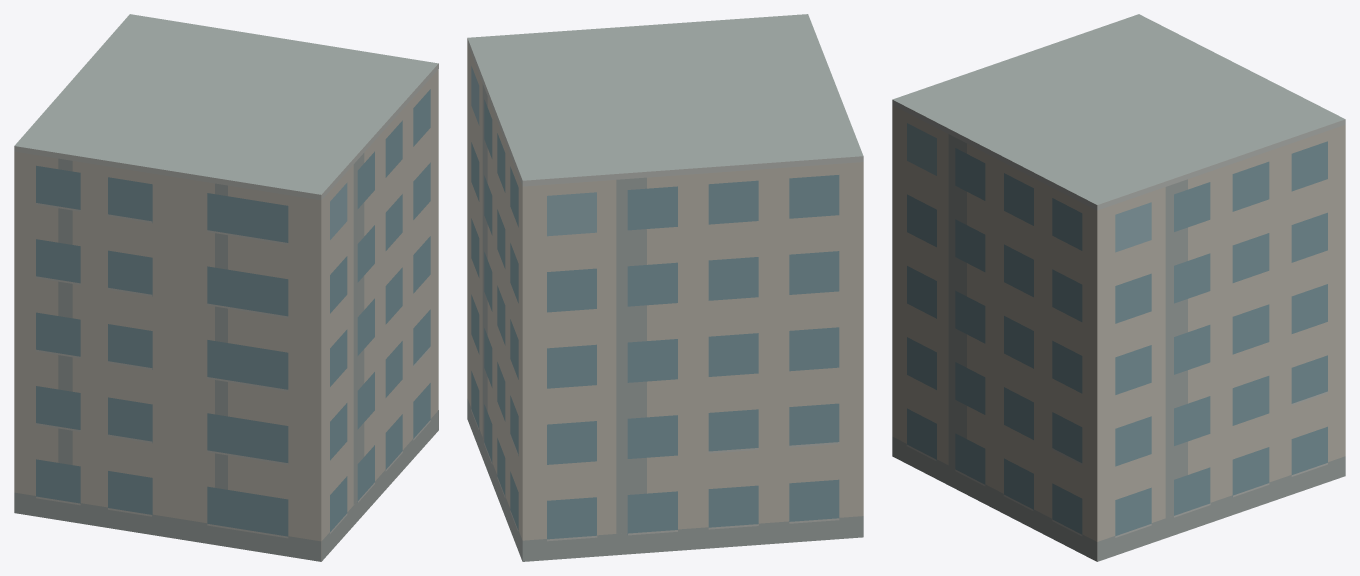
The model's file is survey-upis-33009966.glb.
3 renders of one model, left to right at view 1: azimuth 30°, elevation 25°; view 2: azimuth 150°, elevation 25°; view 3: azimuth 270°, elevation 25°, orthographic. The views are drawn at different scales.
Parts seen in each view (by area): view 1: survey-upis-33009966.tmp; view 2: survey-upis-33009966.tmp; view 3: survey-upis-33009966.tmp.
Boxes of the visible parts, bbox=[...] form: survey-upis-33009966.tmp: bbox=[14, 14, 438, 561]; survey-upis-33009966.tmp: bbox=[467, 14, 863, 561]; survey-upis-33009966.tmp: bbox=[892, 14, 1345, 561].
Size of the model in its own units: 18.45 by 16.05 by 18.49.
